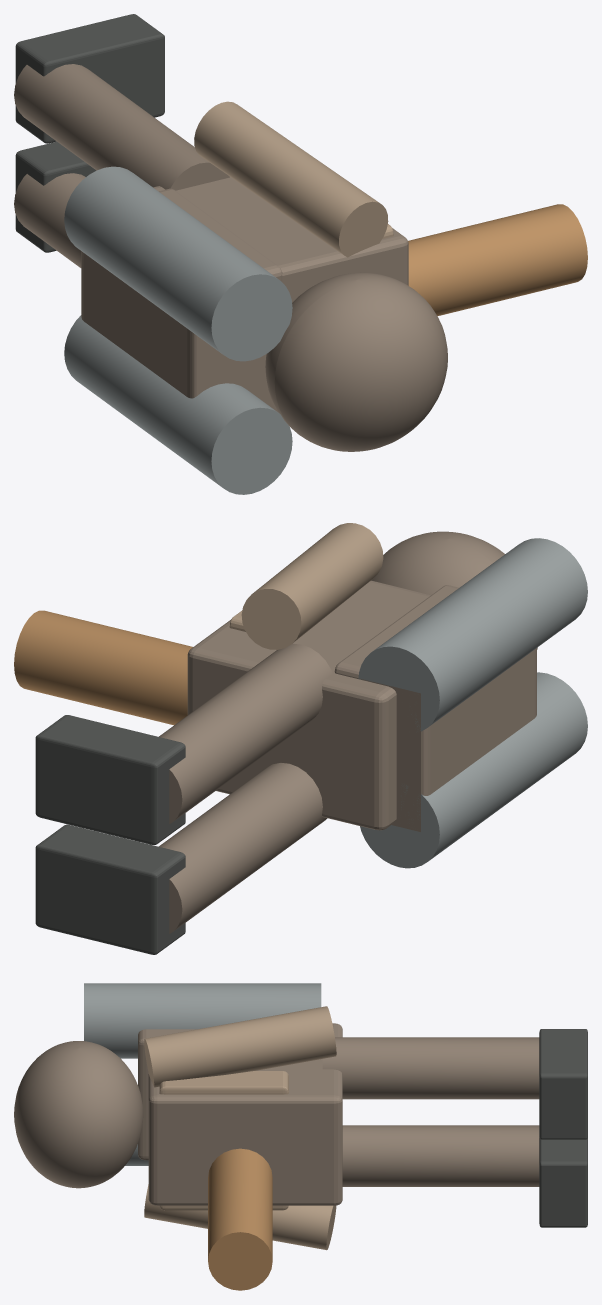
File: d-u08-dominion-flamethrower-lod1.glb
The picture shows the model from 3 angles, top to bottom: view 1: azimuth 30°, elevation 25°; view 2: azimuth 150°, elevation 25°; view 3: azimuth 270°, elevation 25°; orthographic projection. The views are drawn at different scales.
Visible parts, largest first — view 1: soldier_0_helmet, fuel_tank_1, fuel_tank_-1, soldier_0_flamer, soldier_0_leg_1, soldier_0_arm_1, soldier_0_backpack, soldier_0_torso, soldier_0_boot_1, soldier_0_leg_-1, soldier_0_boot_-1; view 2: soldier_0_torso, fuel_tank_1, soldier_0_boot_-1, soldier_0_boot_1, soldier_0_leg_1, soldier_0_flamer, fuel_tank_-1, soldier_0_backpack, soldier_0_leg_-1, soldier_0_arm_1, soldier_0_helmet; view 3: soldier_0_torso, soldier_0_helmet, soldier_0_leg_1, soldier_0_leg_-1, fuel_tank_1, soldier_0_arm_1, soldier_0_flamer, soldier_0_boot_1, soldier_0_boot_-1, soldier_0_arm_-1, soldier_0_chest, soldier_0_backpack.
Boxes of the visible parts, box(x1,y1,x2,y2) form: soldier_0_helmet: box(265, 272, 447, 451); fuel_tank_1: box(64, 166, 292, 361); fuel_tank_-1: box(64, 315, 292, 494); soldier_0_flamer: box(408, 204, 587, 316); soldier_0_leg_1: box(14, 64, 229, 190); soldier_0_arm_1: box(194, 101, 388, 257); soldier_0_backpack: box(81, 188, 282, 412); soldier_0_torso: box(153, 176, 408, 302); soldier_0_boot_1: box(15, 14, 164, 143); soldier_0_leg_-1: box(14, 173, 85, 267); soldier_0_boot_-1: box(15, 141, 96, 252); soldier_0_torso: box(187, 580, 430, 830); fuel_tank_1: box(358, 538, 587, 732); soldier_0_boot_-1: box(35, 824, 185, 954); soldier_0_boot_1: box(35, 715, 185, 844); soldier_0_leg_1: box(159, 643, 332, 823); soldier_0_flamer: box(14, 610, 192, 725); fuel_tank_-1: box(360, 672, 587, 868); soldier_0_backpack: box(334, 585, 536, 831); soldier_0_leg_-1: box(159, 763, 327, 933); soldier_0_arm_1: box(241, 523, 383, 649); soldier_0_helmet: box(371, 531, 537, 649); soldier_0_torso: box(148, 1023, 342, 1205); soldier_0_helmet: box(14, 1041, 143, 1188); soldier_0_leg_1: box(322, 1037, 539, 1099); soldier_0_leg_-1: box(342, 1125, 539, 1186); fuel_tank_1: box(84, 983, 321, 1058); soldier_0_arm_1: box(144, 1006, 336, 1087); soldier_0_flamer: box(208, 1148, 272, 1290); soldier_0_boot_1: box(539, 1029, 587, 1139); soldier_0_boot_-1: box(539, 1136, 587, 1227); soldier_0_arm_-1: box(144, 1184, 336, 1250); soldier_0_chest: box(159, 1071, 288, 1210); soldier_0_backpack: box(138, 1029, 196, 1160).
Size of what is drawn, in the model's own units: 1.56 by 0.9312 by 2.13.
